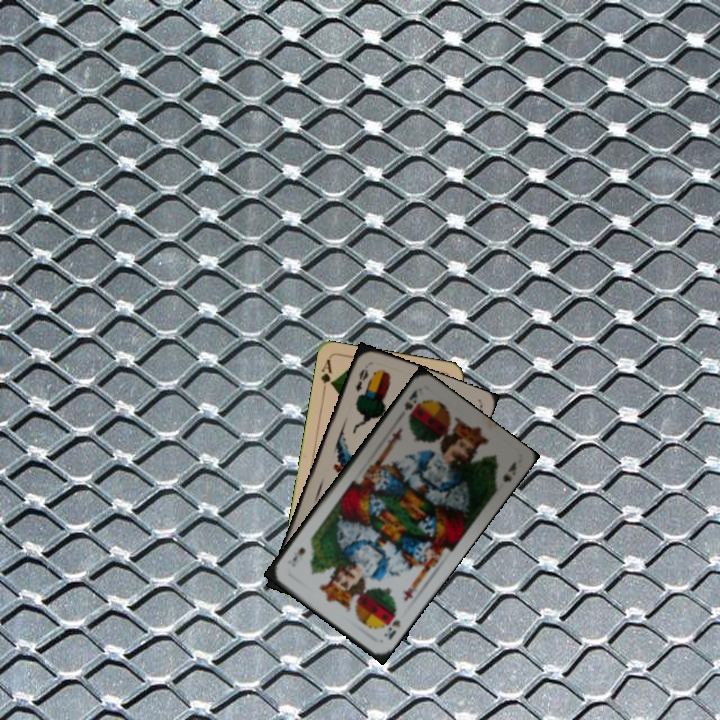EO: (351, 365, 371, 394)
GA: (317, 355, 336, 396)
SK: (400, 386, 421, 421), (380, 616, 403, 642)
